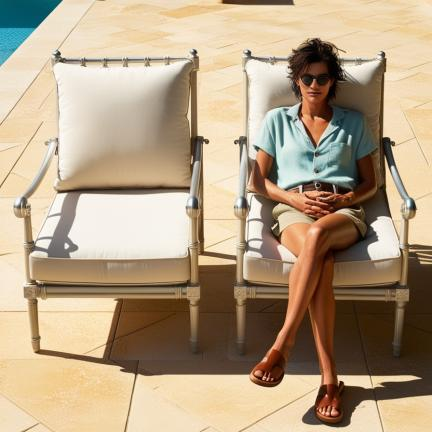empty chair: (14, 51, 203, 351)
guest on chair: (234, 38, 416, 424)
